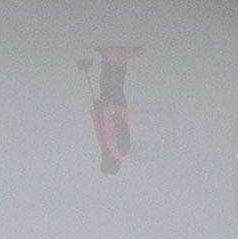person: (91, 45, 133, 175)
